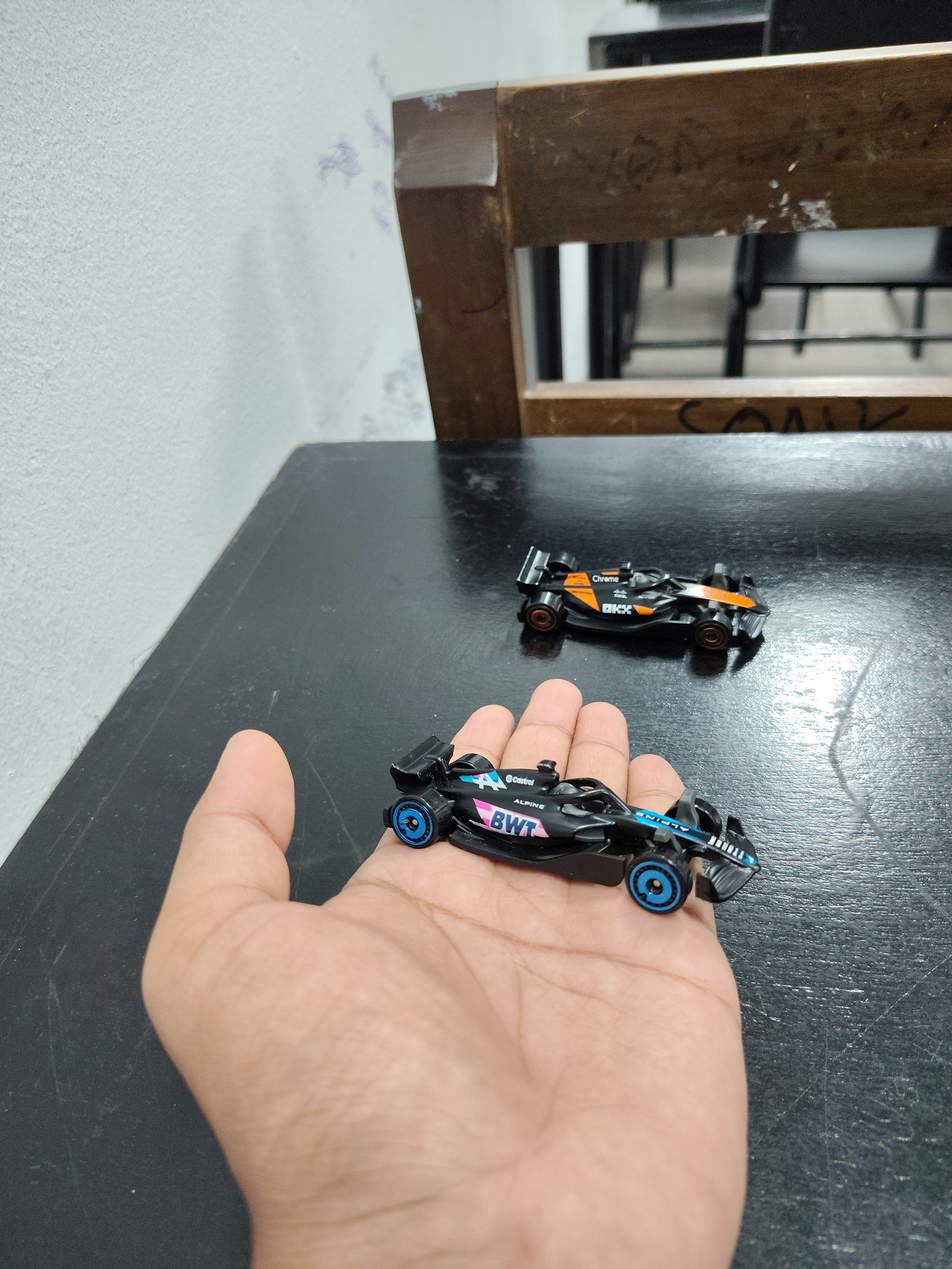Alpine A524: (344, 691, 767, 919)
McLaren MCL40: (494, 533, 787, 669)
